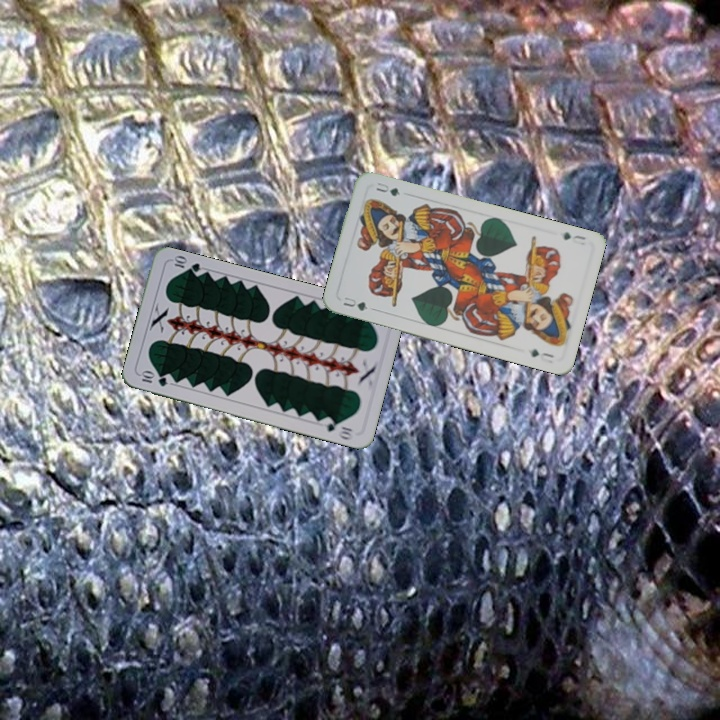G10: (136, 368, 170, 389)
GU: (339, 293, 370, 313), (559, 228, 588, 248)
